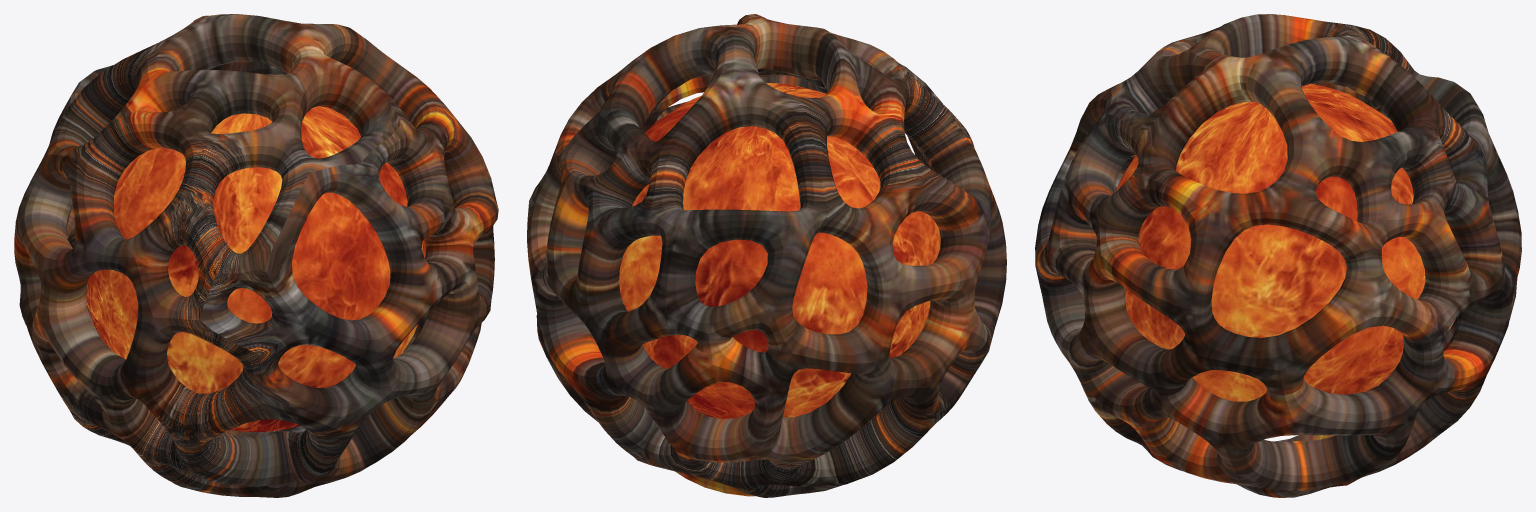
The model's file is firecharge.glb.
3 renders of one model, left to right at view 1: azimuth 30°, elevation 25°; view 2: azimuth 150°, elevation 25°; view 3: azimuth 270°, elevation 25°, orthographic.
Visible parts, largest first — view 1: Cube, Sphere; view 2: Cube, Sphere; view 3: Cube, Sphere.
Part boxes in pixels (x1,y1,x2,y2): Cube: (14,14,498,497); Sphere: (86,106,425,431); Cube: (527,14,1006,497); Sphere: (619,83,940,419); Cube: (1035,14,1521,497); Sphere: (1116,83,1425,401).
Bounding box in the file's own units: 1.87 × 1.88 × 1.86.
2 materials, 2 textured.
